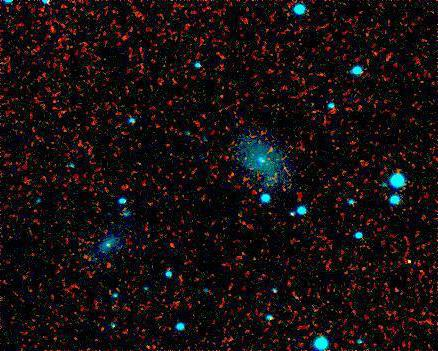star: (403, 242, 433, 272)
